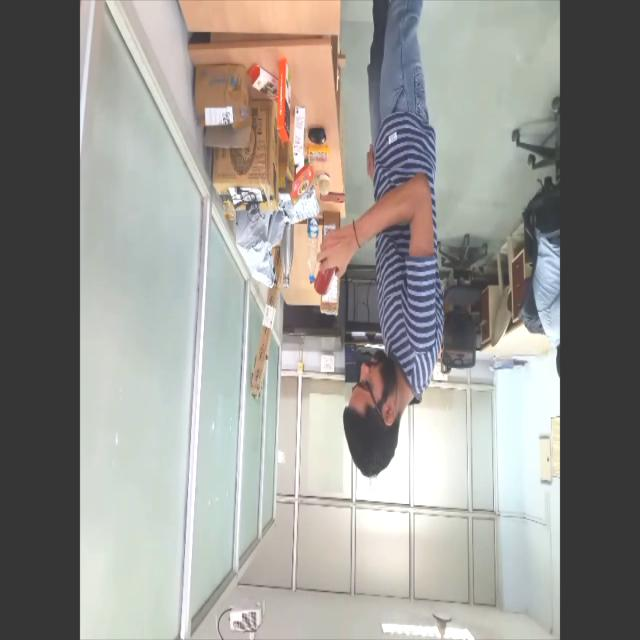normal: (312, 0, 451, 478)
